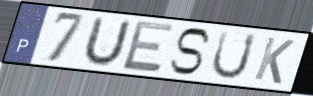7: (47, 10, 85, 65)
E: (120, 19, 176, 74)
K: (251, 35, 297, 86)
S: (167, 26, 213, 77)
U: (79, 14, 133, 68), (209, 29, 259, 81)
